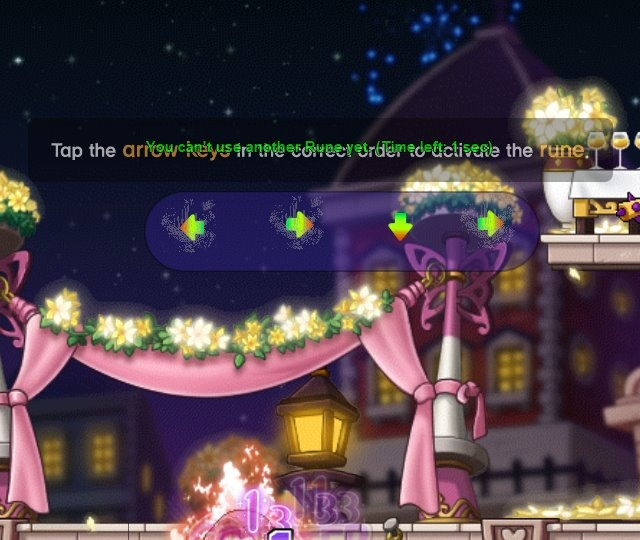down: (384, 206, 422, 247)
left: (174, 209, 214, 249)
right: (279, 206, 319, 246), (469, 206, 509, 244)
